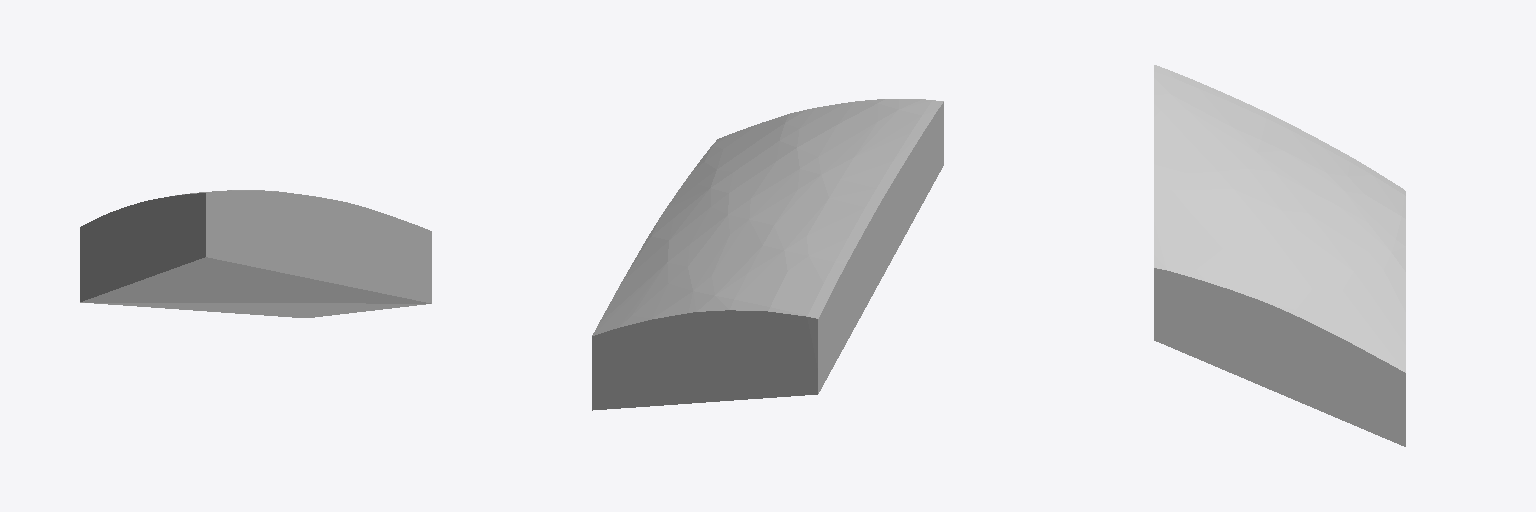
The model's file is phantom-elastrat_collision_347.obj.
3 views of the same model, side by side, from view 1: azimuth 30°, elevation 25°; view 2: azimuth 150°, elevation 25°; view 3: azimuth 270°, elevation 25° (orthographic).
Size of the model in its own units: 0.0067 by 0.0077 by 0.0065.